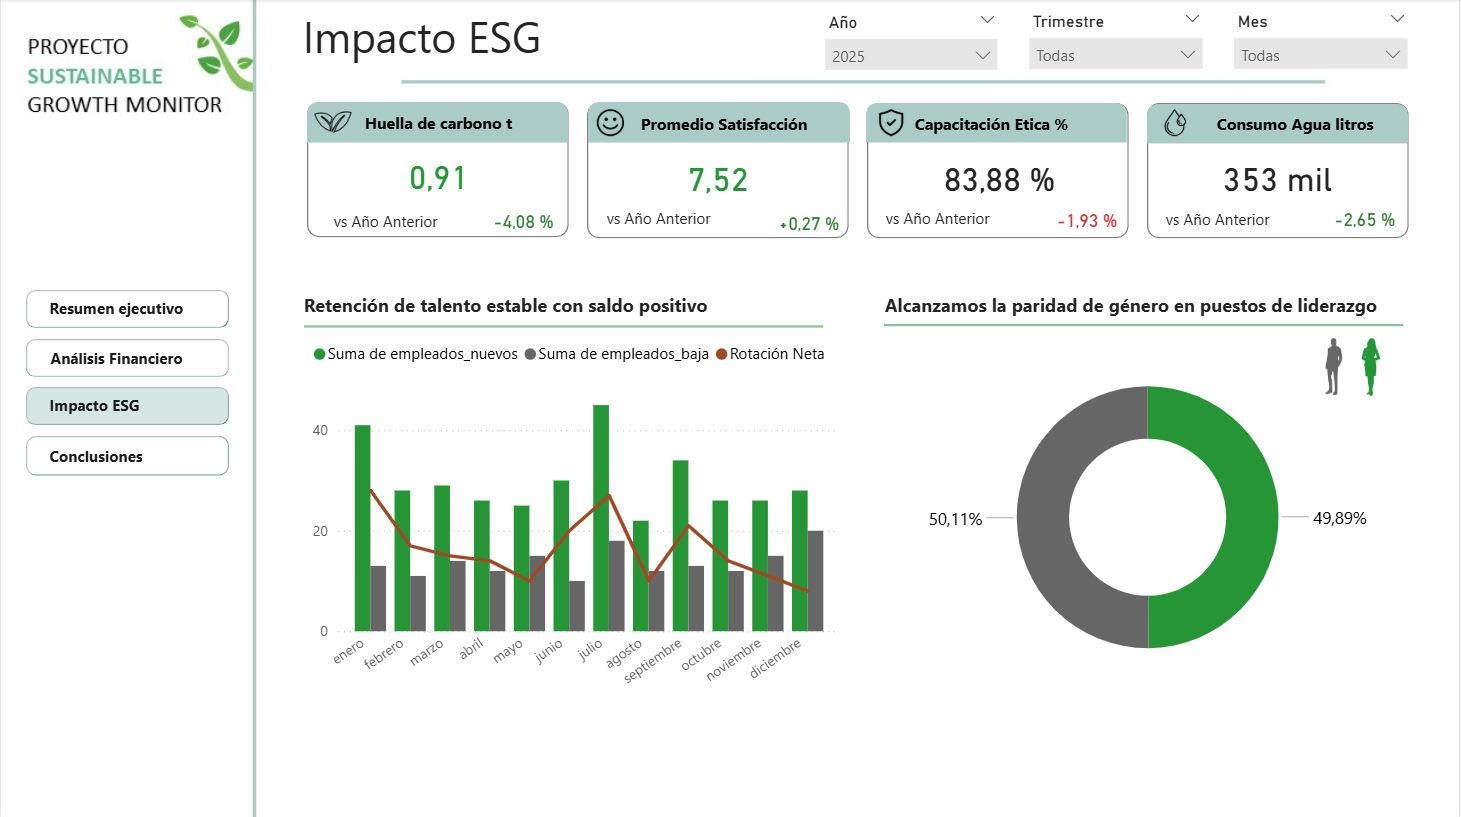

The dashboard page shown, as its layout file describes it:
{"tool":"powerbi","page":{"name":"Impacto ESG","canvas":[1280,720],"ordinal":3},"visuals":[{"type":"shape","box":[760.3,90.9,229.7,118.7],"z":0},{"type":"textbox","box":[260,2.6,401.1,66.6],"z":1000},{"type":"card","fields":{"Values":["gobernanza_limpio.Capacitacion Etica %"]},"box":[763.8,124.6,226.1,63.8],"z":2000},{"type":"shape","box":[268.8,90.6,229.7,118.7],"z":3000,"group":"g1"},{"type":"image","box":[689.6,176,52.7,29],"z":3000},{"type":"image","box":[430.6,176,54.1,35.6],"z":4000},{"type":"image","box":[1195.7,176,39.8,29.7],"z":5000},{"type":"lineClusteredColumnComboChart","fields":{"Category":["Calendario.Mes"],"Y":["Sum(RRHH_limpio.empleados_nuevos)","Sum(RRHH_limpio.empleados_baja)"],"Y2":["RRHH_limpio.Rotación Neta"]},"box":[269,291.9,472.7,333],"z":6000},{"type":"shape","box":[266.1,283.5,455.9,7.8],"z":7000},{"type":"textbox","box":[261.1,253.2,498.9,38.6],"z":8000},{"type":"shape","box":[775.7,283,456,7.1],"z":9000},{"type":"textbox","box":[771,252.9,498.9,38.6],"z":10000},{"type":"donutChart","fields":{"Y":["Sum(RRHH_limpio.liderazgo_femenino)","Sum(RRHH_limpio.liderazgo_masculino)"]},"box":[781.7,292.4,450.7,325.3],"z":11000},{"type":"shape","box":[21.8,255.1,178.2,33.3],"z":12000},{"type":"shape","box":[21.8,298.7,178.2,33.3],"z":13000},{"type":"shape","box":[21.8,341,178.2,33.3],"z":14000},{"type":"shape","box":[21.8,383.3,178.2,34.6],"z":15000},{"type":"actionButton","box":[21.5,255,178.5,33.5],"z":16000},{"type":"actionButton","box":[21.6,297.9,178.4,34],"z":17000},{"type":"actionButton","box":[21.2,340.2,178.8,33.5],"z":18000},{"type":"actionButton","box":[21.5,383.3,178.5,34.4],"z":19000},{"type":"group","id":"g1","title":"Grupo 1","box":[268.8,90.6,232.1,118.7],"z":20000},{"type":"shape","box":[514.5,90.9,229.7,118.7],"z":21000},{"type":"shape","box":[1006,90.9,229.7,118.7],"z":22000},{"type":"card","fields":{"Values":["gobernanza_limpio.Var % Etica"]},"box":[888.8,178.6,129.6,34.7],"z":23000},{"type":"card","fields":{"Values":["ambiental_limpio.Var % Agua"]},"box":[1158.3,177.3,78,35],"z":24000},{"type":"shape","box":[515.2,90.4,230.1,35.8],"z":25000},{"type":"shape","box":[759.9,91.2,229.3,35],"z":26000},{"type":"shape","box":[1006.2,92,229.3,35],"z":27000},{"type":"image","box":[756,96.4,51.2,23.8],"z":28000},{"type":"textbox","box":[556.7,94.8,188.7,39.2],"z":29000},{"type":"image","box":[518.4,96.4,34.1,24.4],"z":30000},{"type":"textbox","box":[1062.2,94.9,166.3,32.7],"z":31000},{"type":"shape","box":[269,90.8,229.3,35.8],"z":32000,"group":"g1"},{"type":"image","box":[1008.3,96.4,46.4,23.8],"z":32000},{"type":"textbox","box":[796.9,94.8,191.8,34],"z":33000},{"type":"image","box":[274.8,96.6,33.3,23.8],"z":33000,"group":"g1"},{"type":"textbox","box":[314,94.2,186.9,36.9],"z":34000,"group":"g1"},{"type":"textbox","box":[287.2,180.8,102.6,37.2],"z":34000},{"type":"textbox","box":[526.9,178.2,102.6,37.2],"z":35000},{"type":"textbox","box":[771.8,178.2,102.6,37.2],"z":36000},{"type":"textbox","box":[1017.9,179.5,102.6,37.2],"z":37000},{"type":"card","fields":{"Values":["RRHH_limpio.Satisfaccion Promedio"]},"box":[515.4,125.3,228.6,62.6],"z":38000},{"type":"card","fields":{"Values":["Sum(ambiental_limpio.consumo_agua_litros)"]},"box":[1006.1,124.5,229.6,63.3],"z":39000},{"type":"card","fields":{"Values":["RRHH_limpio.Var % Satisfaccion"]},"box":[675.3,181.2,68.2,34.1],"z":40000},{"type":"card","fields":{"Values":["ambiental_limpio.Huella Carbono (t)"]},"box":[269.4,122.4,229.4,64.7],"z":41000},{"type":"card","fields":{"Values":["ambiental_limpio.Var % Huella"]},"box":[423.5,178.8,70.6,35.3],"z":42000},{"type":"image","box":[1181.4,298,41.5,51.2],"z":43000},{"type":"image","box":[1152.2,298,36.6,50],"z":44000},{"type":"slicer","fields":{"Values":["Calendario.Mes"]},"box":[1072.8,6.6,172,61.3],"z":45000},{"type":"slicer","fields":{"Values":["Calendario.Año"]},"box":[713.9,6.8,171.2,61.6],"z":46000},{"type":"slicer","fields":{"Values":["Calendario.Trimestre"]},"box":[893,6.6,172,61.3],"z":47000}]}

Visuals, with their boxes in screenshot pixels (x1, y1, x2, y2), scaled from the page's 1280x720 canvas onto the 1461x817 screenshot:
shape: bbox=(868, 103, 1130, 238)
textbox: bbox=(297, 3, 755, 79)
card - gobernanza_limpio.Capacitacion Etica %: bbox=(872, 141, 1130, 214)
shape: bbox=(307, 103, 569, 237)
image: bbox=(787, 200, 847, 233)
image: bbox=(491, 200, 553, 240)
image: bbox=(1365, 200, 1410, 233)
lineClusteredColumnComboChart - Calendario.Mes x Sum(RRHH_limpio.empleados_nuevos): bbox=(307, 331, 847, 709)
shape: bbox=(304, 322, 824, 331)
textbox: bbox=(298, 287, 867, 331)
shape: bbox=(885, 321, 1406, 329)
textbox: bbox=(880, 287, 1449, 331)
donutChart - Sum(RRHH_limpio.liderazgo_femenino) x Sum(RRHH_limpio.liderazgo_masculino): bbox=(892, 332, 1407, 701)
shape: bbox=(25, 289, 228, 327)
shape: bbox=(25, 339, 228, 377)
shape: bbox=(25, 387, 228, 425)
shape: bbox=(25, 435, 228, 474)
actionButton: bbox=(25, 289, 228, 327)
actionButton: bbox=(25, 338, 228, 377)
actionButton: bbox=(24, 386, 228, 424)
actionButton: bbox=(25, 435, 228, 474)
"Grupo 1" group: bbox=(307, 103, 572, 237)
shape: bbox=(587, 103, 849, 238)
shape: bbox=(1148, 103, 1410, 238)
card - gobernanza_limpio.Var % Etica: bbox=(1014, 203, 1162, 242)
card - ambiental_limpio.Var % Agua: bbox=(1322, 201, 1411, 241)
shape: bbox=(588, 103, 851, 143)
shape: bbox=(867, 103, 1129, 143)
shape: bbox=(1148, 104, 1410, 144)
image: bbox=(863, 109, 921, 136)
textbox: bbox=(635, 108, 851, 152)
image: bbox=(592, 109, 631, 137)
textbox: bbox=(1212, 108, 1402, 145)
shape: bbox=(307, 103, 569, 144)
image: bbox=(1151, 109, 1204, 136)
textbox: bbox=(910, 108, 1129, 146)
image: bbox=(314, 110, 352, 137)
textbox: bbox=(358, 107, 572, 149)
textbox: bbox=(328, 205, 445, 247)
textbox: bbox=(601, 202, 719, 244)
textbox: bbox=(881, 202, 998, 244)
textbox: bbox=(1162, 204, 1279, 246)
card - RRHH_limpio.Satisfaccion Promedio: bbox=(588, 142, 849, 213)
card - Sum(ambiental_limpio.consumo_agua_litros): bbox=(1148, 141, 1410, 213)
card - RRHH_limpio.Var % Satisfaccion: bbox=(771, 206, 849, 244)
card - ambiental_limpio.Huella Carbono (t): bbox=(307, 139, 569, 212)
card - ambiental_limpio.Var % Huella: bbox=(483, 203, 564, 243)
image: bbox=(1348, 338, 1396, 396)
image: bbox=(1315, 338, 1357, 395)
slicer - Calendario.Mes: bbox=(1225, 7, 1421, 77)
slicer - Calendario.Año: bbox=(815, 8, 1010, 78)
slicer - Calendario.Trimestre: bbox=(1019, 7, 1216, 77)
